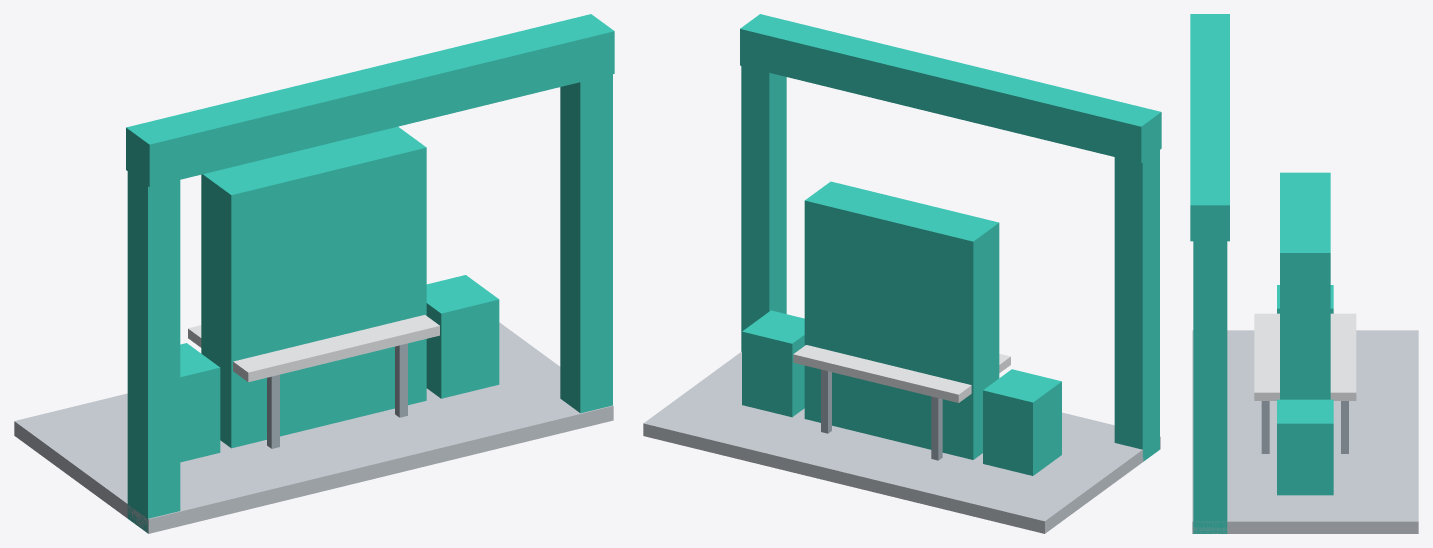
3 views of the same model, side by side, from view 1: azimuth 30°, elevation 25°; view 2: azimuth 150°, elevation 25°; view 3: azimuth 270°, elevation 25° (orthographic). The views are drawn at different scales.
Parts seen in each view (by area): view 1: Exhibition Booth Concept; view 2: Exhibition Booth Concept; view 3: Exhibition Booth Concept.
Boxes of the visible parts, x1,y1,x2,y2 form: Exhibition Booth Concept: [14, 14, 614, 533]; Exhibition Booth Concept: [643, 14, 1161, 533]; Exhibition Booth Concept: [1190, 14, 1418, 533].
Bounding box in the file's own units: 4 × 3.2 × 2.01.
